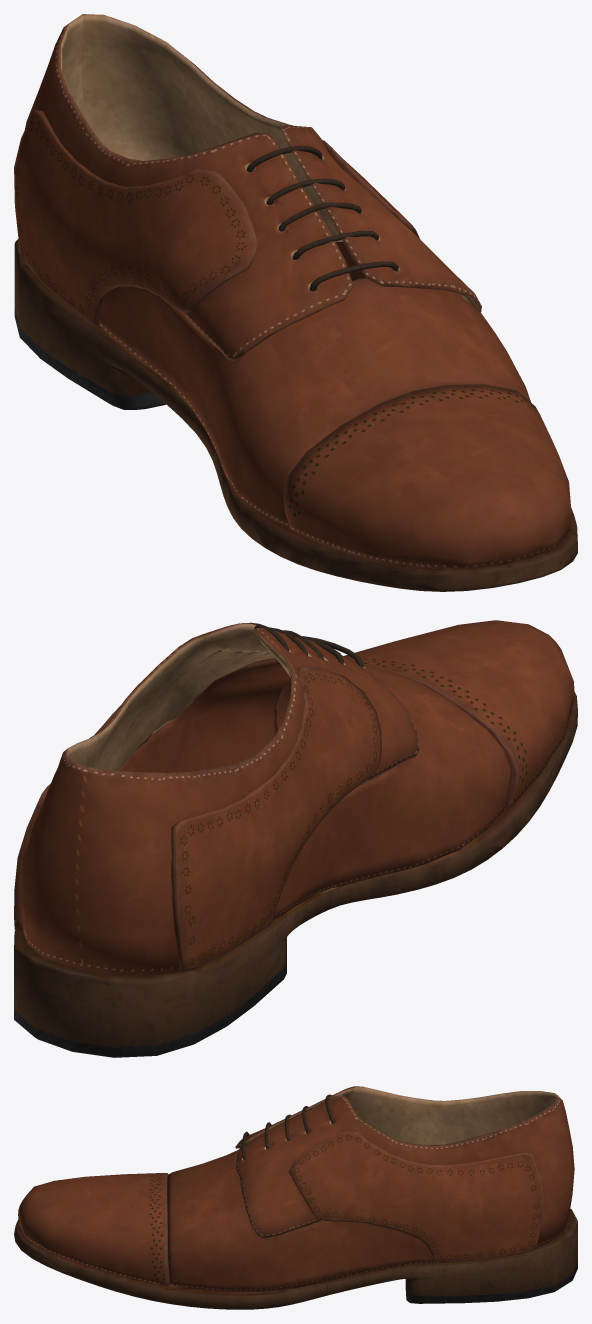
Rendered from oxfordShoes.glb.
3 renders of one model, top to bottom at view 1: azimuth 30°, elevation 25°; view 2: azimuth 150°, elevation 25°; view 3: azimuth 270°, elevation 25°, orthographic. The views are drawn at different scales.
Visible parts, largest first — view 1: defaultMaterial; view 2: defaultMaterial; view 3: defaultMaterial.
Boxes of the visible parts, left/top/right/bottom form: defaultMaterial: left=14, top=14, right=577, bottom=591; defaultMaterial: left=14, top=620, right=577, bottom=1057; defaultMaterial: left=14, top=1086, right=577, bottom=1309.
Size of the model in its own units: 553943 by 577680 by 1620485.
1 material, 1 textured.
